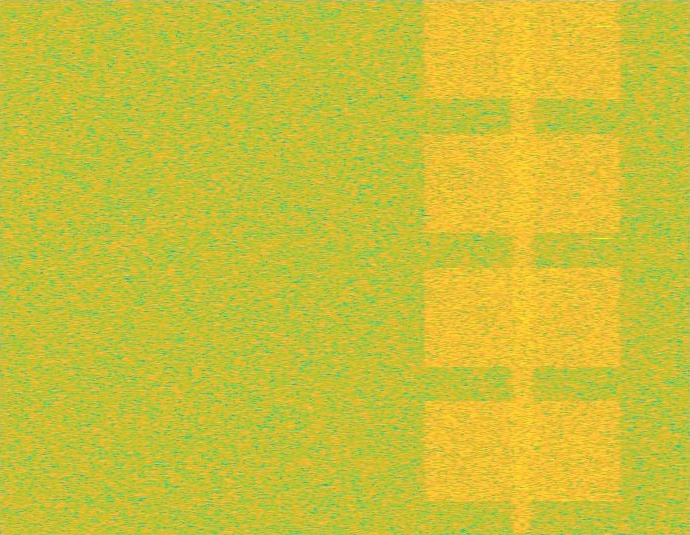5G: (419, 0, 626, 534)
DSSS: (508, 0, 536, 534)
Radar: (596, 0, 610, 534)
